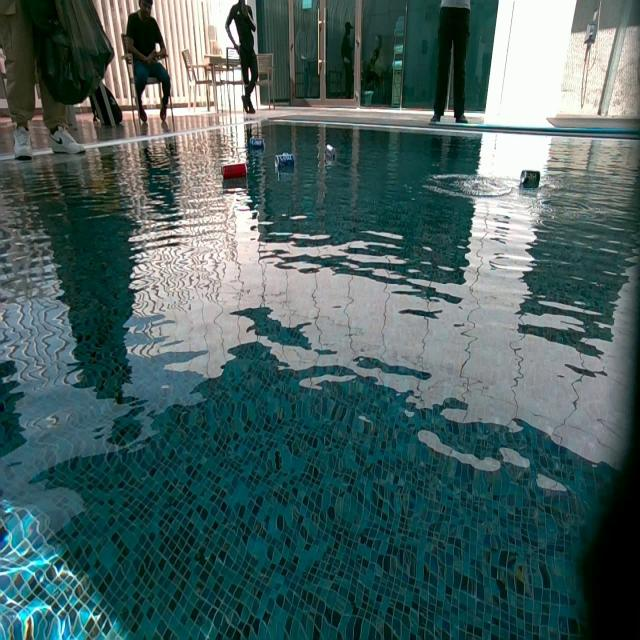Cans: (222, 164, 246, 182), (519, 171, 540, 189), (276, 152, 296, 169), (246, 136, 265, 150), (326, 144, 338, 161)
